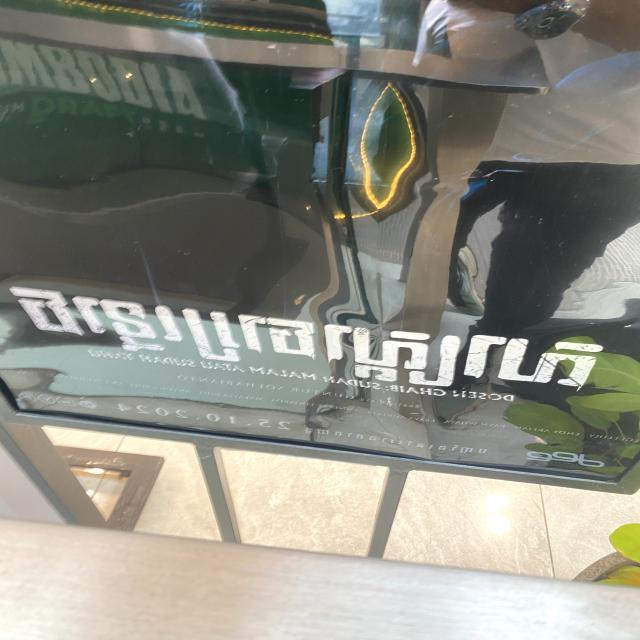679: (114, 399, 295, 434)
Yolov11kh: (4, 279, 619, 404), (303, 424, 490, 458)
